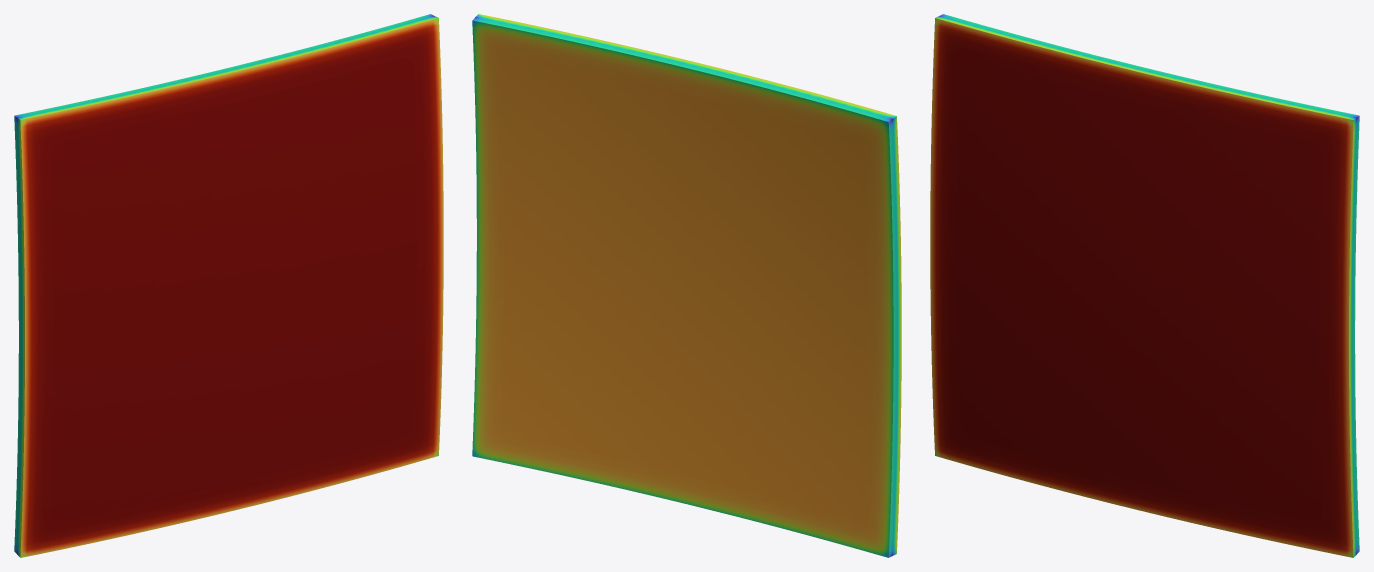
Rendered from DISP_CFRP_3mm.gltf.
3 renders of one model, left to right at view 1: azimuth 30°, elevation 25°; view 2: azimuth 150°, elevation 25°; view 3: azimuth 330°, elevation 25°, orthographic.
Parts seen in each view (by area): view 1: Renderer Node; view 2: Renderer Node; view 3: Renderer Node.
Boxes of the visible parts, x1,y1,x2,y2 form: Renderer Node: (14, 14, 443, 557); Renderer Node: (472, 14, 901, 557); Renderer Node: (930, 14, 1359, 557).
Size of the model in its own units: 101 by 101 by 6.96.
1 material, 1 textured.
